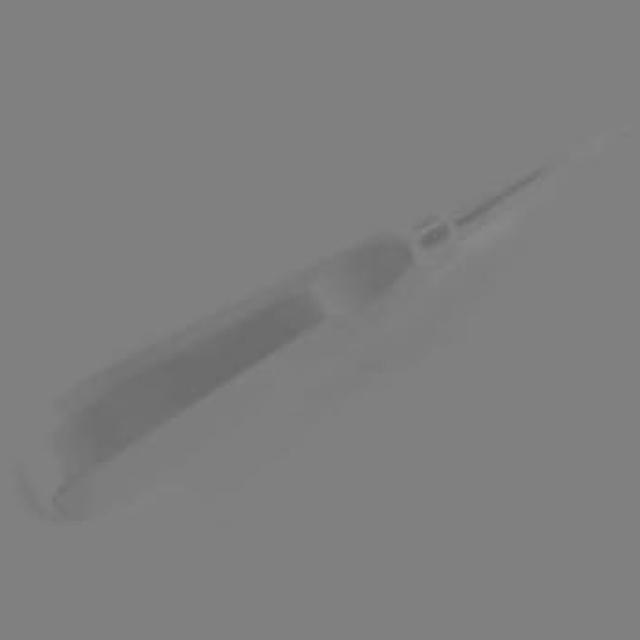botador: (15, 152, 579, 521)
